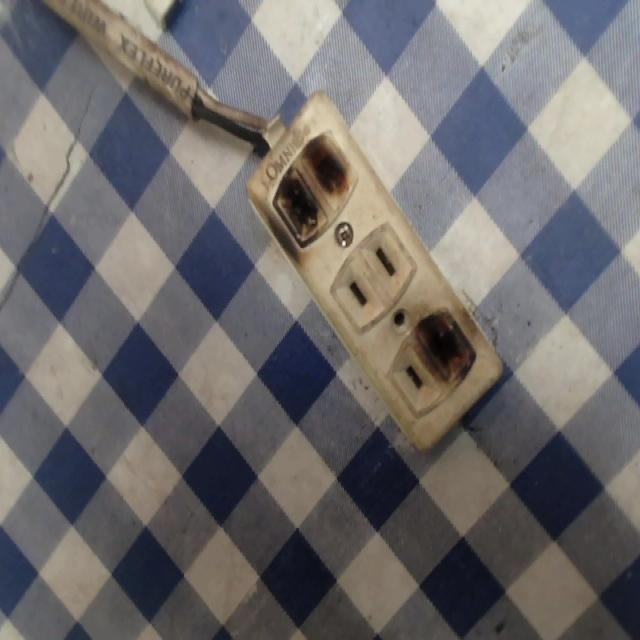-: (262, 128, 357, 257), (409, 304, 479, 389)
